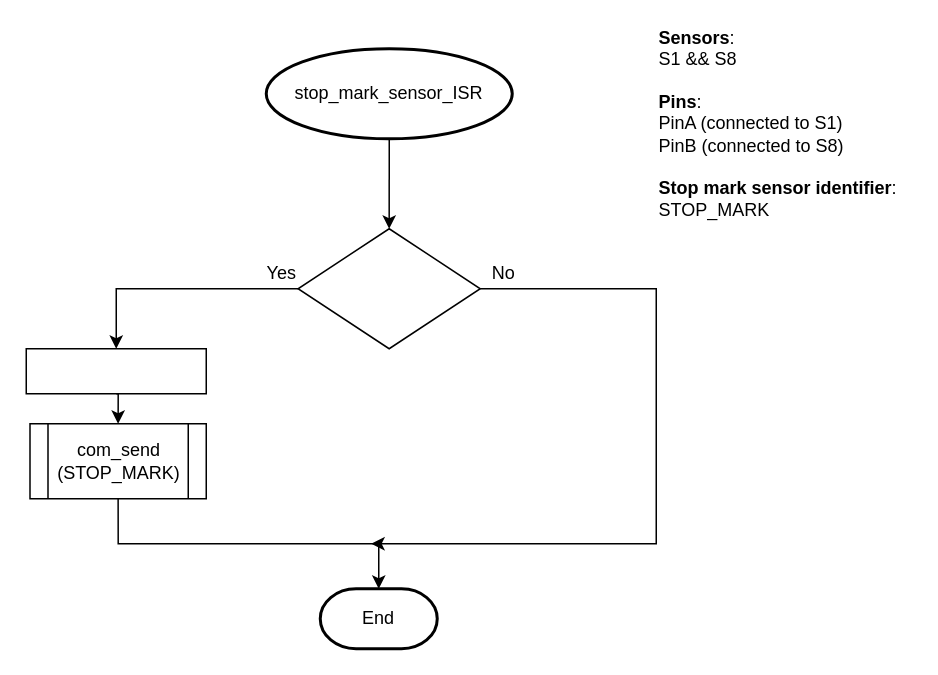
Image size: 938x675. Some labels were removed from this diagram. The box of each missing label's shape, as (x1, y1, x2, y2) in pixels:
nstate <- S_WAIT: (25, 347, 206, 394)
PinA = PinB = 1 ?: (297, 227, 480, 349)
